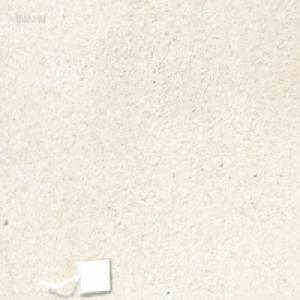LuggageTag: (37, 255, 112, 295)
